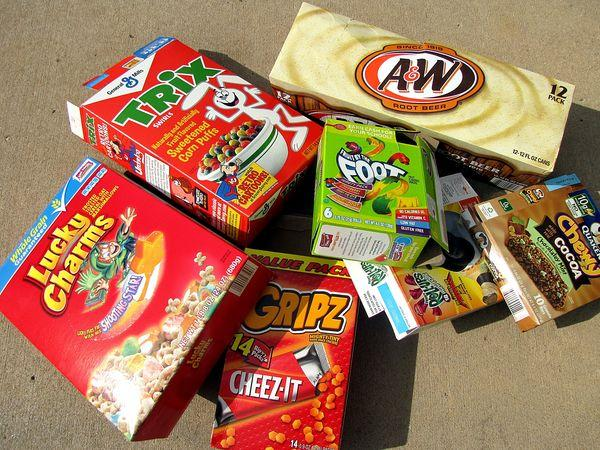cardboard: (0, 162, 256, 438), (277, 2, 574, 176), (73, 37, 318, 225), (354, 178, 600, 343), (217, 249, 366, 450), (313, 115, 446, 274)
